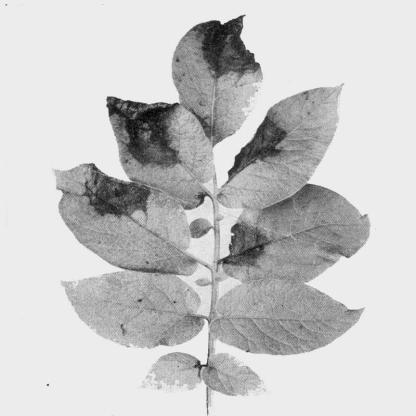Potato leaf early blight: (51, 160, 203, 281), (215, 82, 346, 206), (225, 179, 370, 290), (104, 92, 218, 208), (166, 13, 263, 141)
